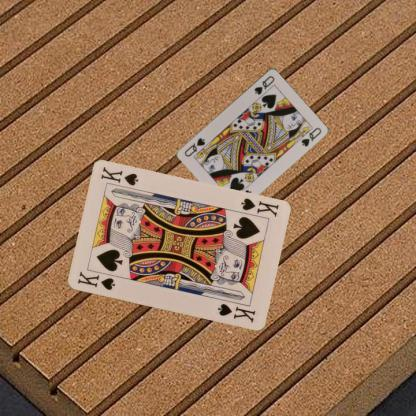Ks: (237, 196, 280, 218), (75, 269, 116, 292)
Qs: (252, 73, 276, 96)
